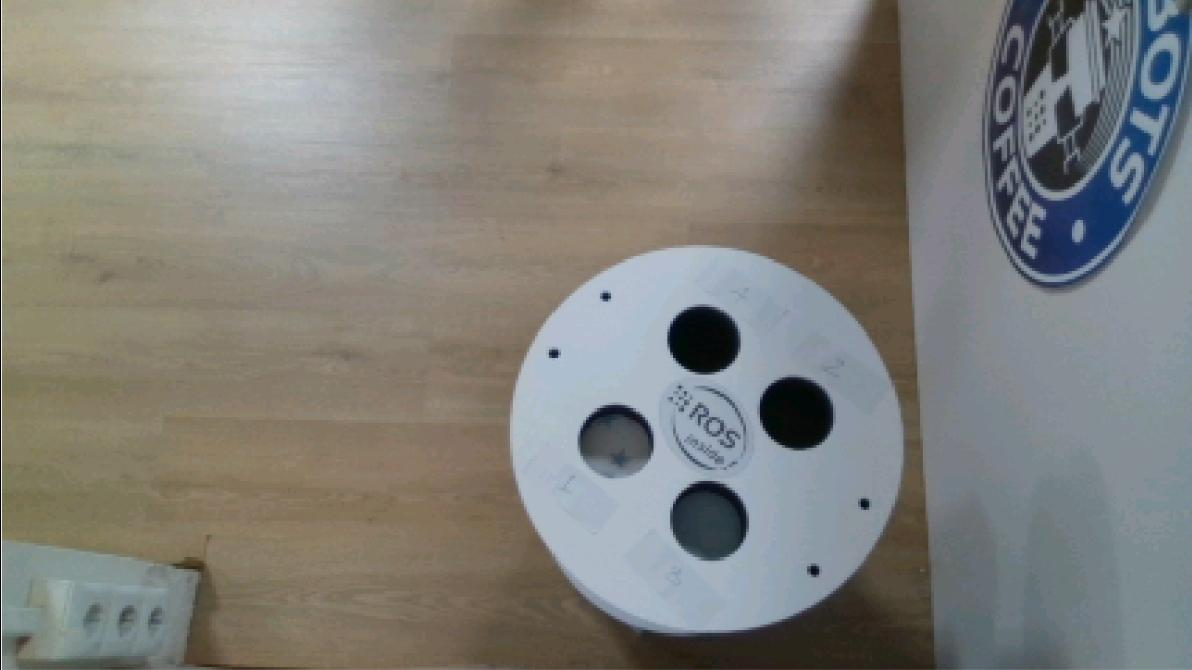hole: (668, 478, 751, 564), (576, 402, 657, 483), (757, 373, 836, 454), (667, 300, 742, 379)
